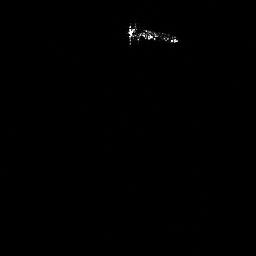ship: (124, 20, 181, 48)
